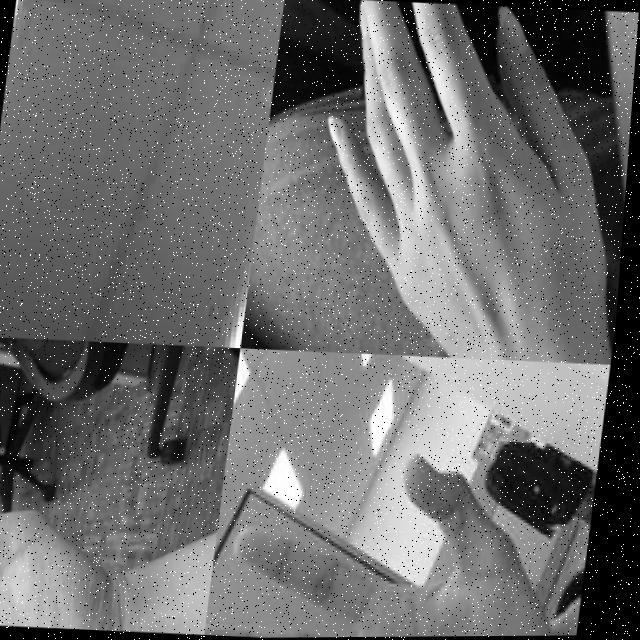no-gloves: (302, 0, 640, 366), (214, 446, 606, 638), (0, 429, 170, 633)
